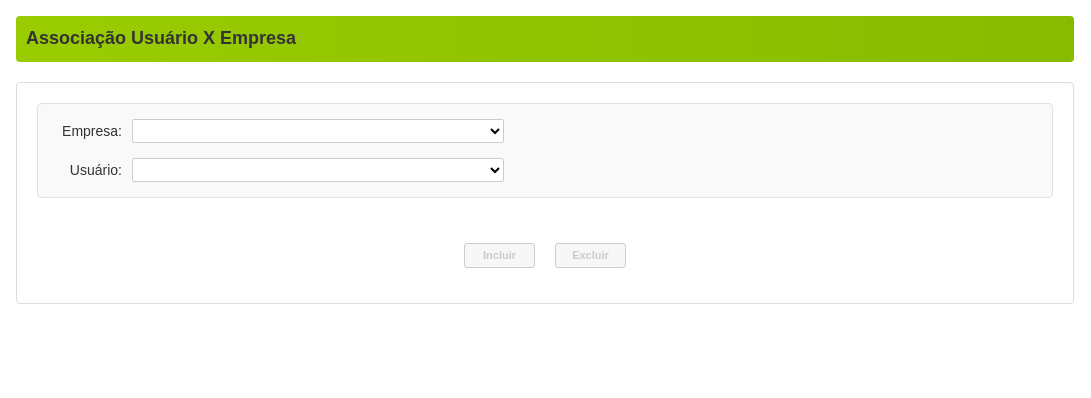
it: UserAssociation Component › Exibição de Associações › deve exibir loading durante carregamento
Select "1" in the dropdown next to "Empresa:" at {"x": 318, "y": 131}, box [132,119,504,143]
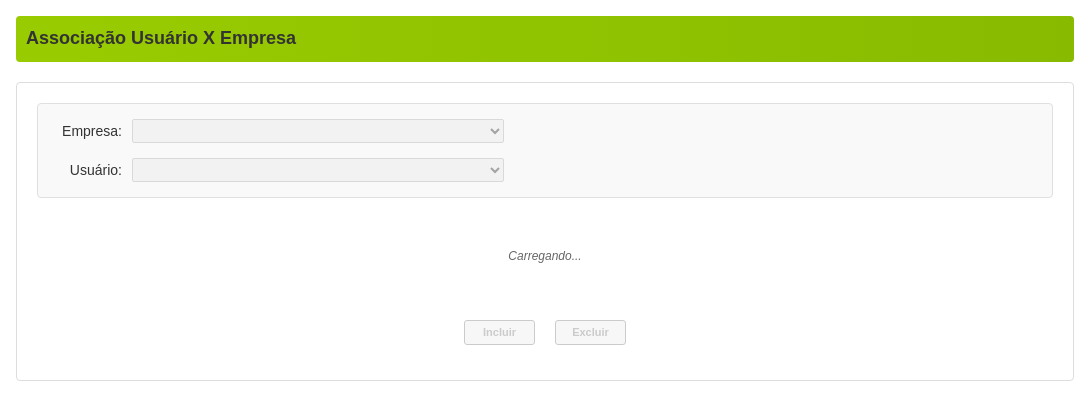
Expected: the text "Carregando..." is shown, [508,249,582,263]
